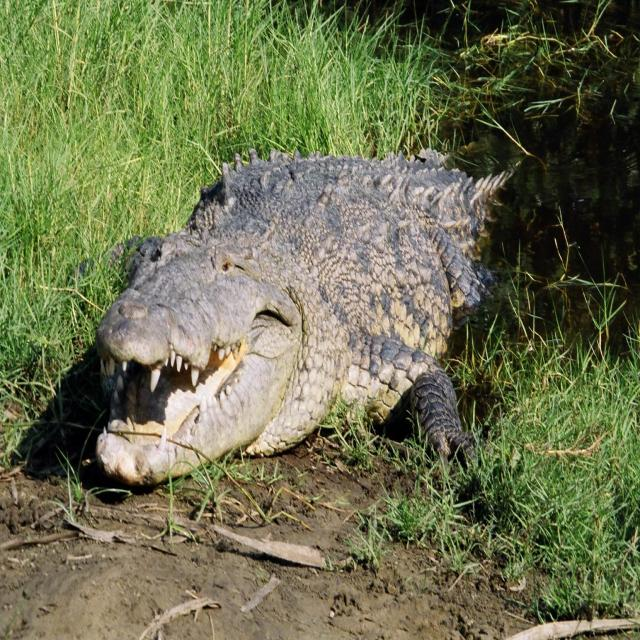crocodile: (60, 124, 554, 516)
